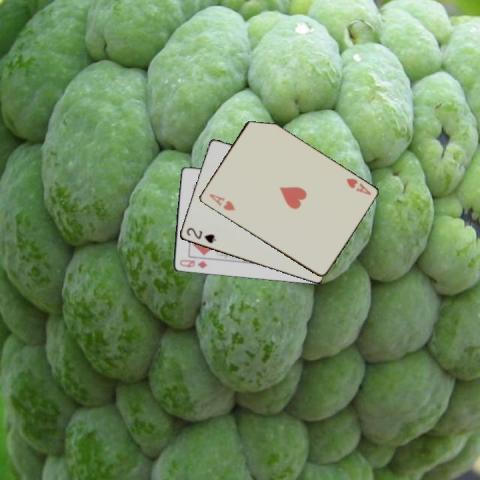2s: (184, 224, 218, 244)
Ah: (343, 175, 372, 197), (206, 191, 236, 212)
Qd: (176, 257, 208, 270)
